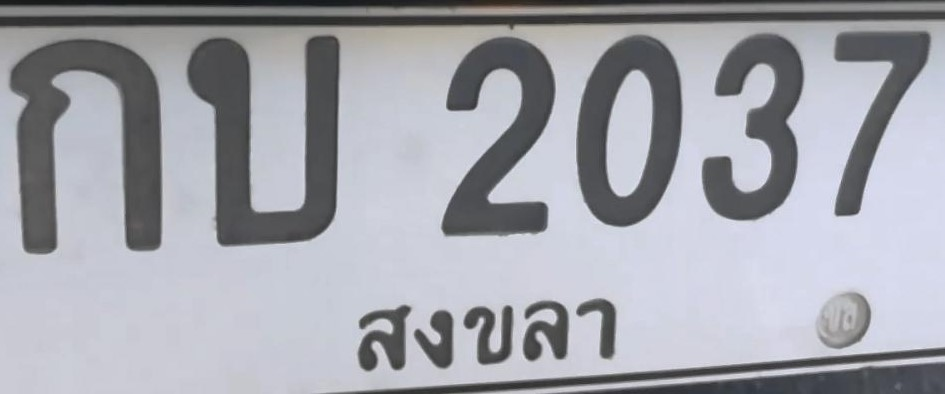txt01: (4, 33, 173, 258)
txt21: (181, 31, 344, 249)
